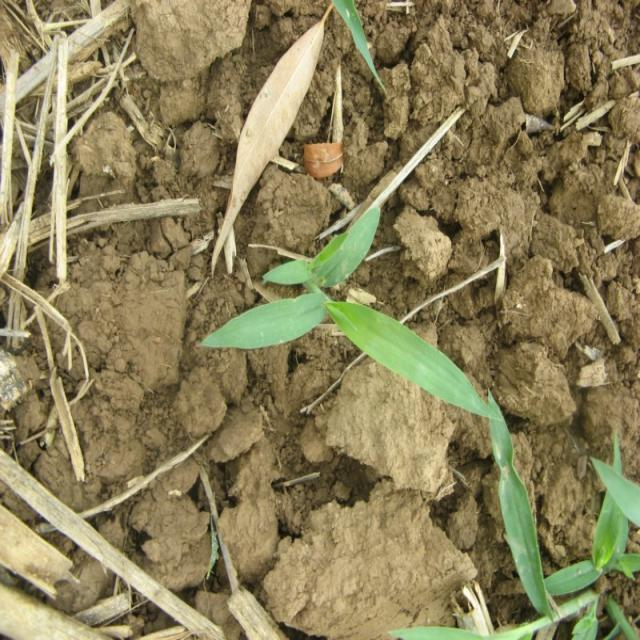bg: (201, 211, 510, 433)
